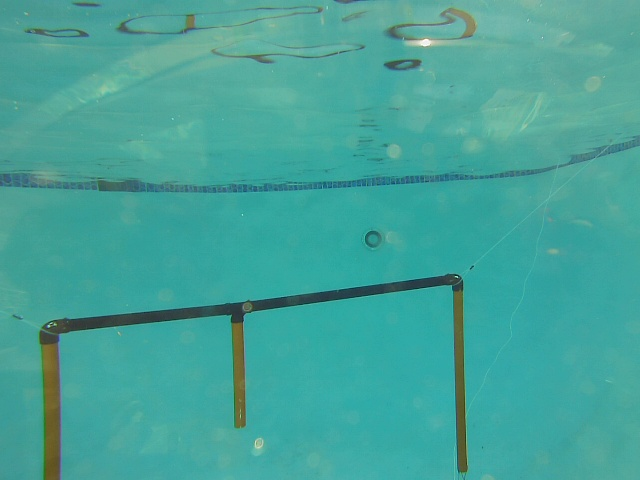Gate: (38, 330, 68, 480), (448, 283, 471, 476), (226, 314, 252, 429)
